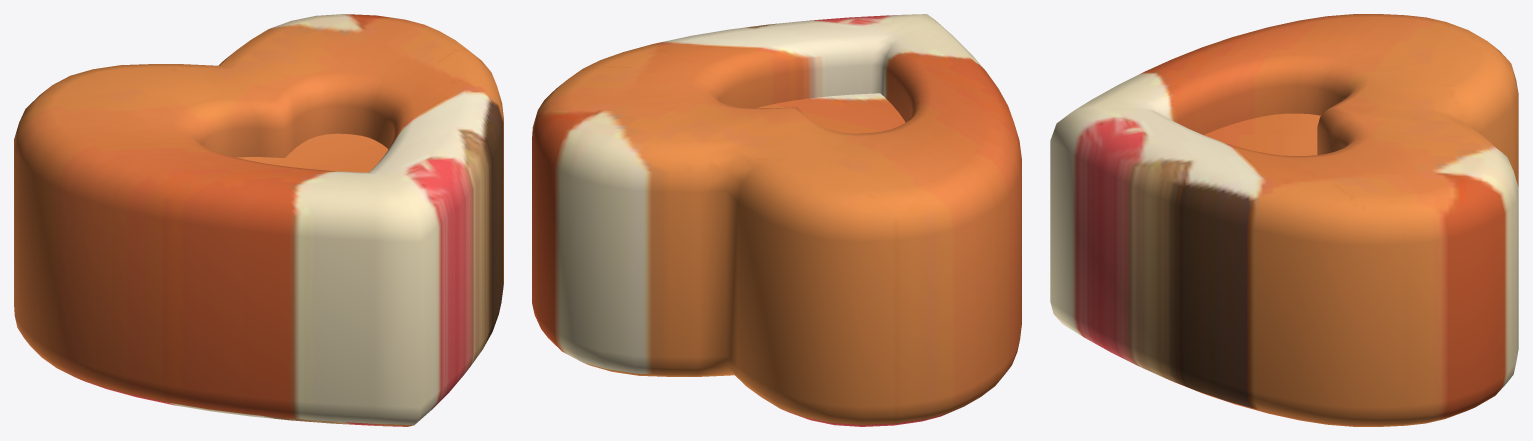
3 renders of one model, left to right at view 1: azimuth 30°, elevation 25°; view 2: azimuth 150°, elevation 25°; view 3: azimuth 270°, elevation 25°, orthographic.
Visible parts, largest first — view 1: _9; view 2: _9; view 3: _9.
Part boxes in pixels (bbox=[...]): _9: bbox=[14, 14, 503, 426]; _9: bbox=[532, 14, 1021, 426]; _9: bbox=[1050, 14, 1518, 426].
Size of the model in its own units: 0.5375 by 0.2706 by 0.5064.
Materials: 1 (1 with a texture image).
